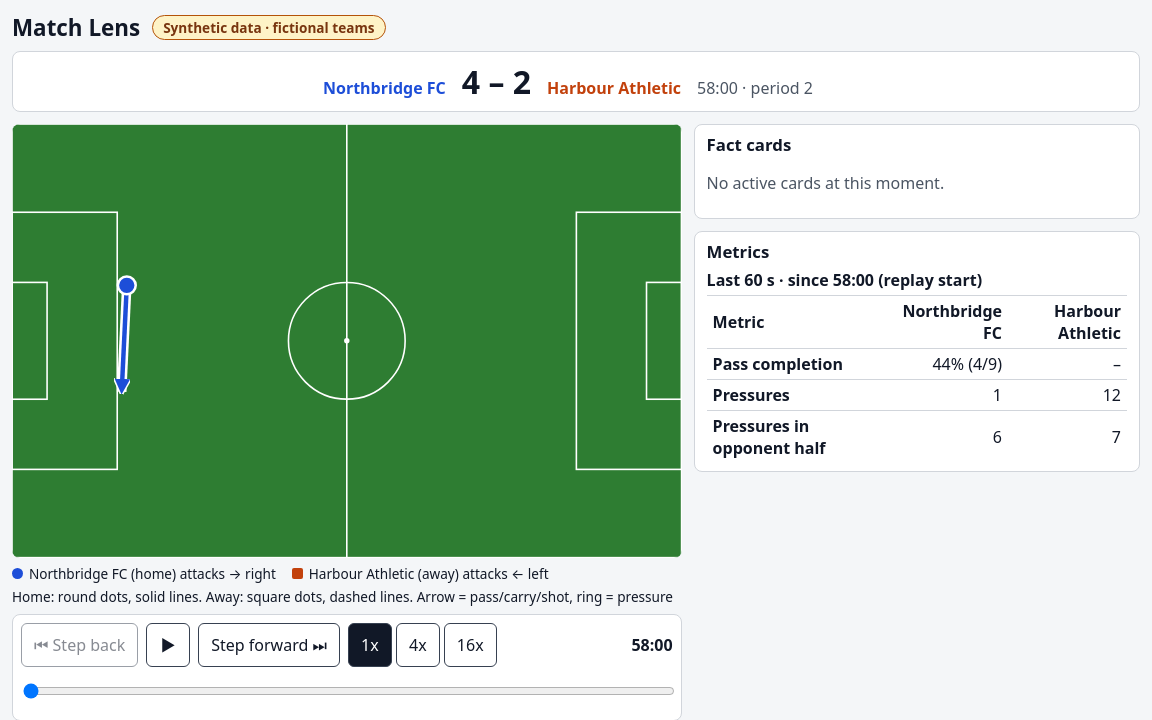
Test: analysis failure › keeps the last good score while the next snapshot is failing
This screenshot has width=1152, height=720.
Expected: the slider named "Replay position" is shown, [23, 675, 675, 707]
Expected: the text named "Home score" reads "4", [462, 60, 480, 103]
Click the button "Step forward ⏭".
click(269, 645)  # box [198, 623, 340, 667]
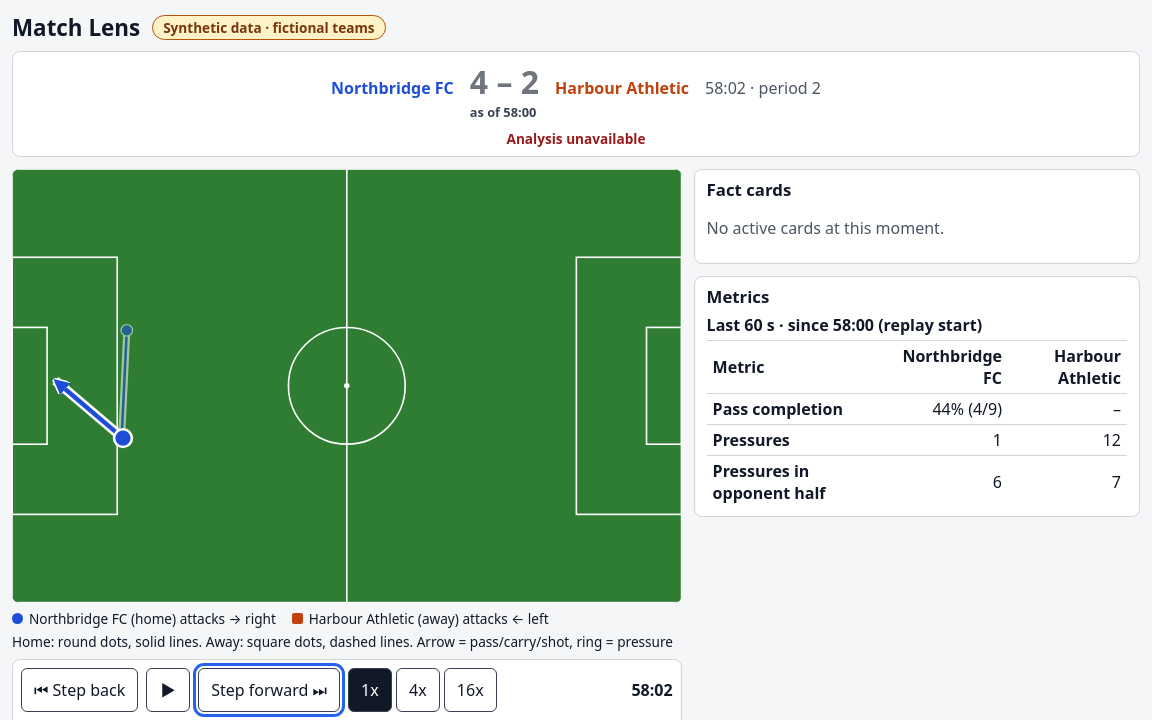
Expected: the text named "Home score" reads "4", [470, 60, 488, 103]
Expected: the text "Analysis unavailable" is shown, [506, 129, 645, 148]
